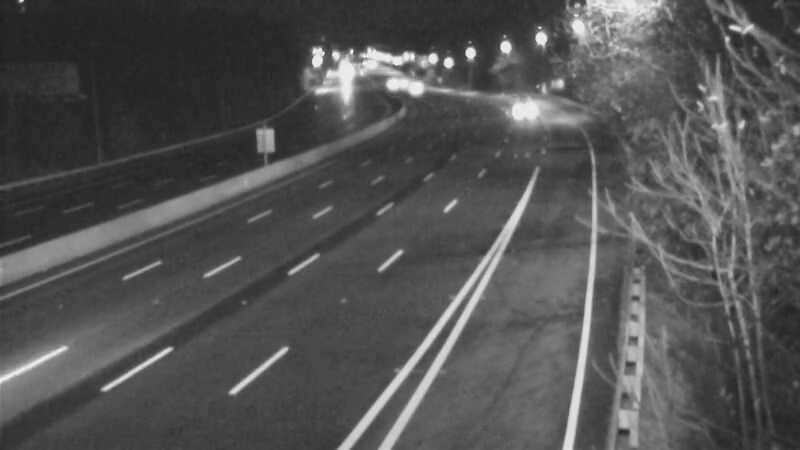vehicle: (364, 61, 414, 111), (389, 66, 439, 116), (497, 90, 547, 140)
